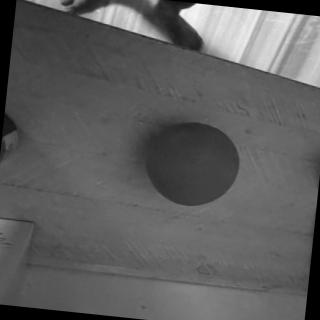Telur: (133, 116, 246, 213)
